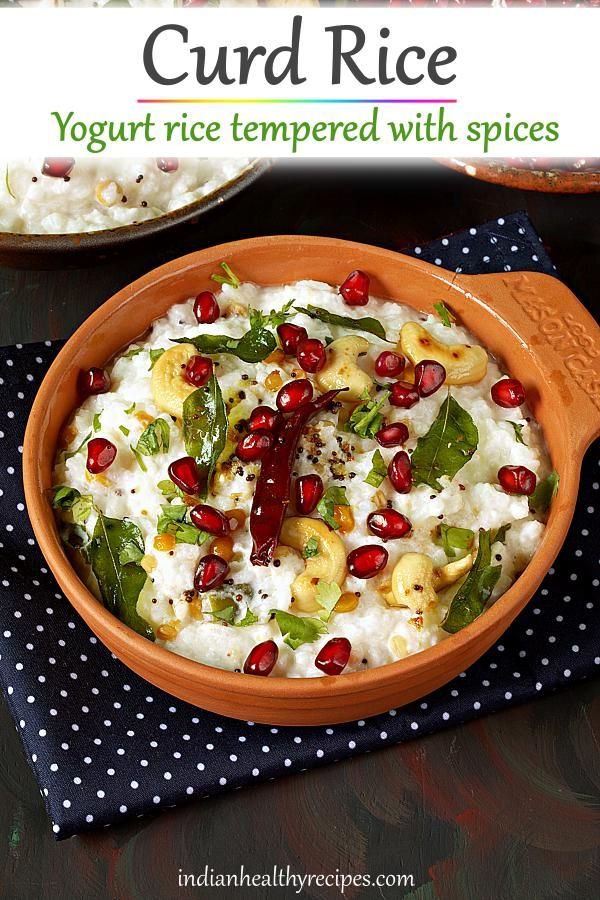curd_rice: (53, 260, 560, 692)
